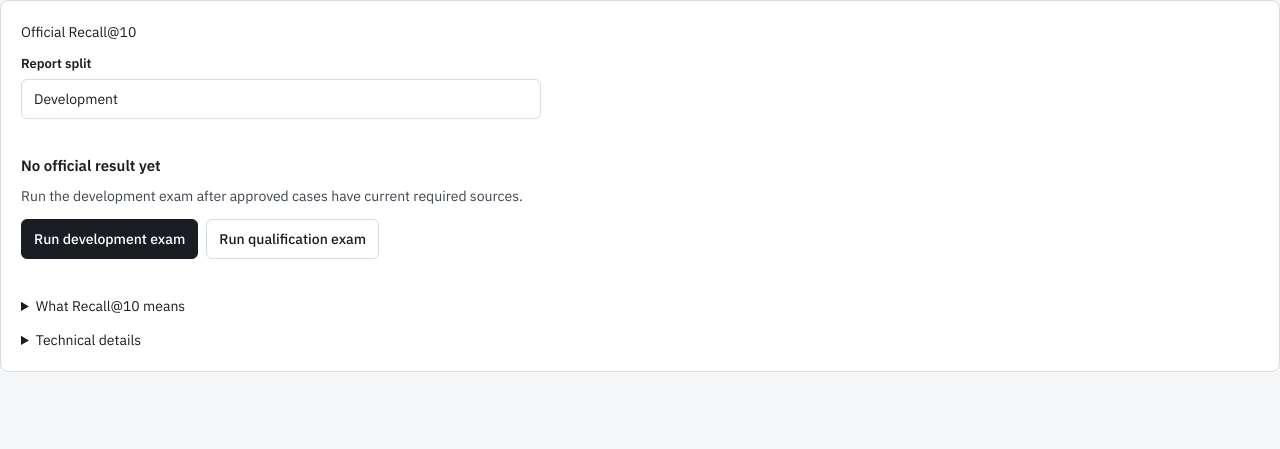
it: EvaluationExamBoard › shows insufficient-dataset counts and never labels gates_pass
This screenshot has width=1280, height=449.
Step 1. Click the button "Run development exam" → (110, 239), box x1=21 y1=219 x2=198 y2=259
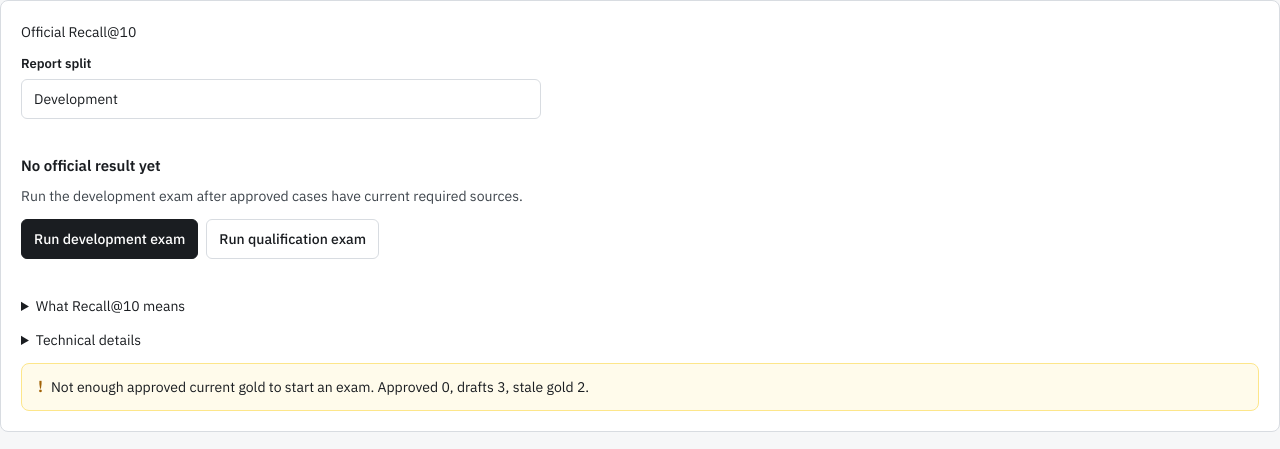
Check: the text "Approved 0, drafts 3, stale gold 2" is shown, box x1=51 y1=378 x2=589 y2=396
